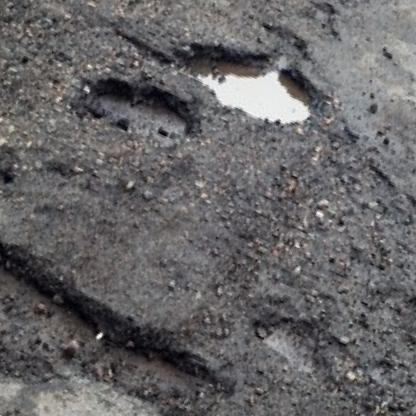pothole: (0, 204, 243, 416), (171, 22, 331, 147), (69, 56, 213, 167), (260, 313, 328, 378)
